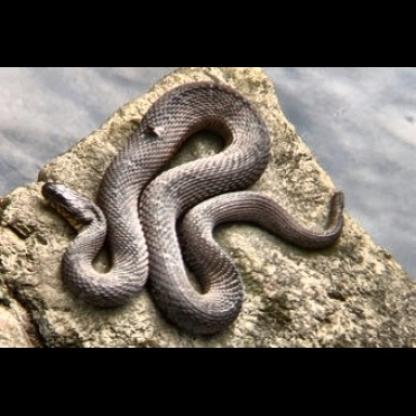Snake: (38, 71, 356, 340)
